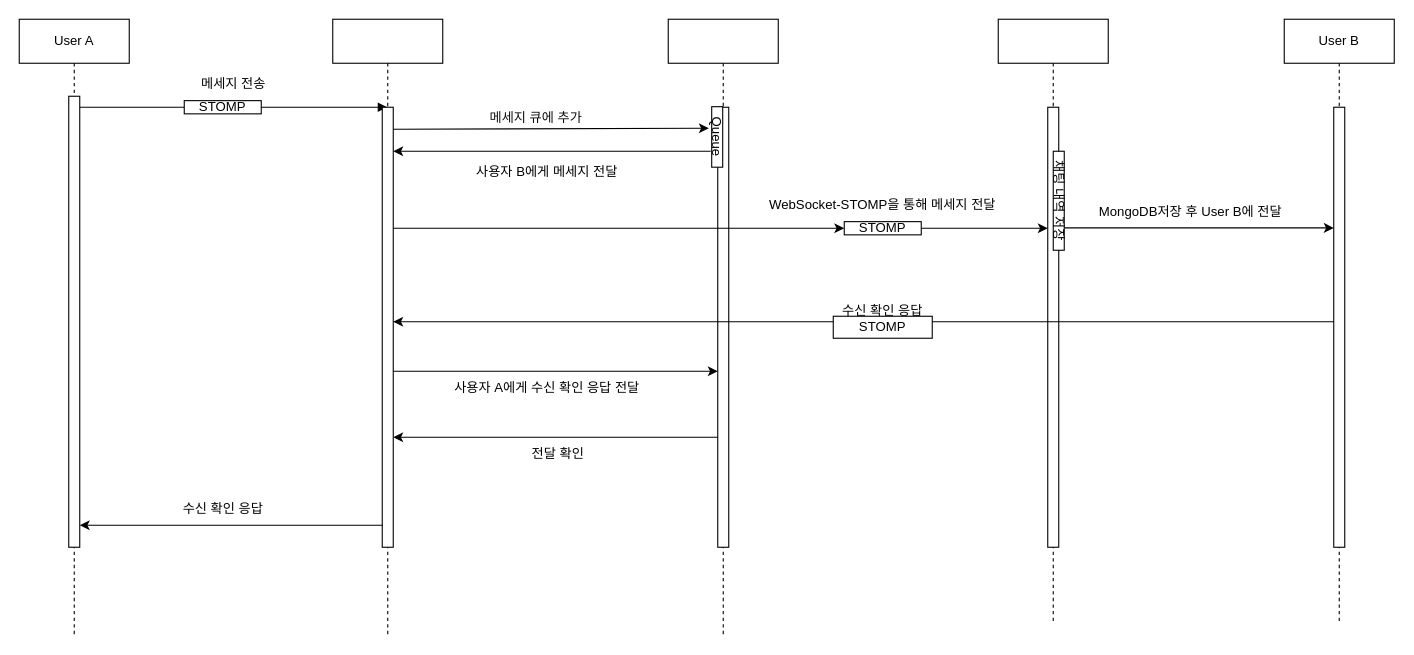
The diagram is 1414 pixels wide and 655 high, and some of its shapes have lost their labels. The shapes that lost their labels are listed below. From the top down, each one's box as (x1, y1, x2, y2) in pixels, then its label:
(332, 18, 443, 635): WebSocket Server
(667, 18, 778, 635): RabbitMQ
(997, 18, 1108, 624): MongoDB
